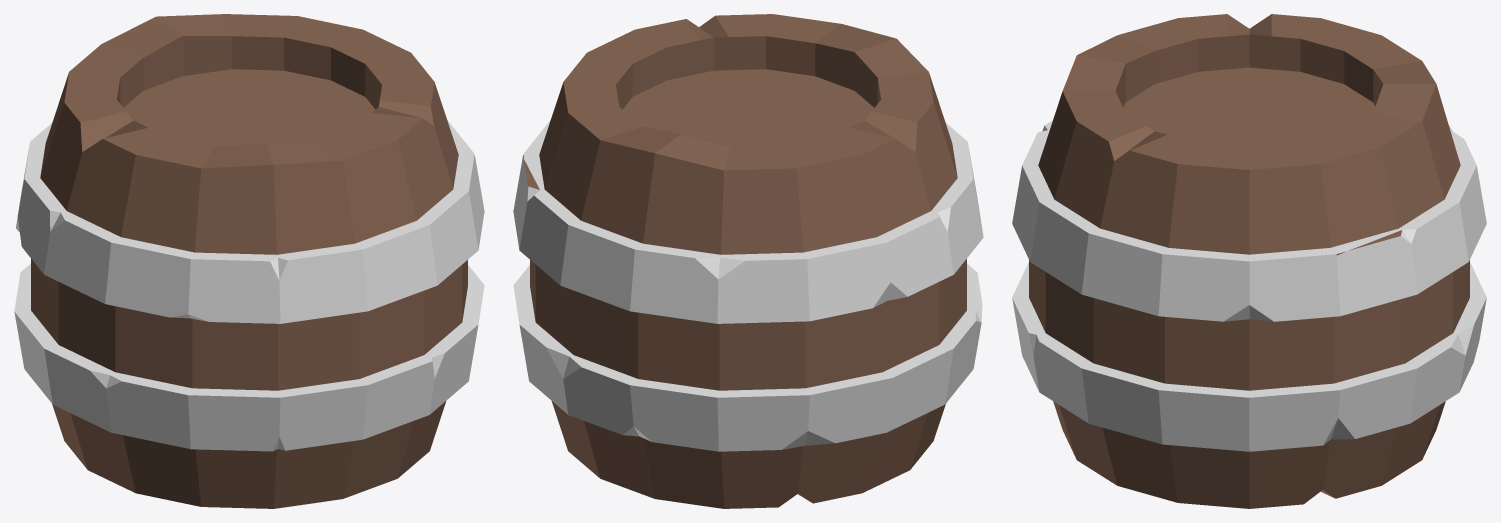
The model's file is Barrilzinho.fbx.
The picture shows the model from 3 angles, left to right: view 1: azimuth 30°, elevation 25°; view 2: azimuth 150°, elevation 25°; view 3: azimuth 270°, elevation 25°; orthographic projection.
Parts seen in each view (by area): view 1: Barril; view 2: Barril; view 3: Barril.
Part boxes in pixels (<box>): Barril: <box>14,14,484,508</box>; Barril: <box>513,14,983,508</box>; Barril: <box>1012,14,1486,508</box>.
Bounding box in the file's own units: 254 × 204 × 254.
